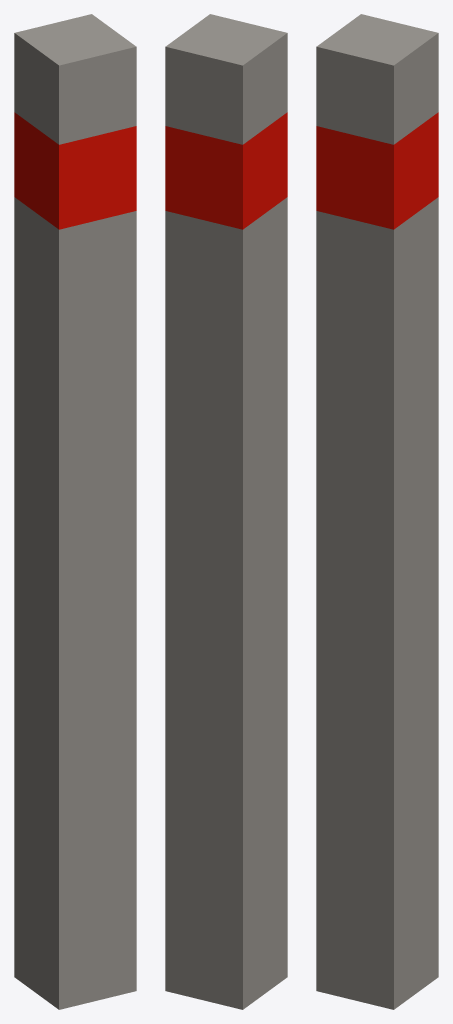
File: pilaar.glb
3 views of the same model, side by side, from view 1: azimuth 30°, elevation 25°; view 2: azimuth 150°, elevation 25°; view 3: azimuth 330°, elevation 25° (orthographic).
Visible parts, largest first — view 1: Pilaar; view 2: Pilaar; view 3: Pilaar.
Part boxes in pixels (x1,y1,x2,y2): Pilaar: [14, 14, 136, 1009]; Pilaar: [165, 14, 287, 1009]; Pilaar: [316, 14, 438, 1009].
Size of the model in its own units: 0.4431 by 5.17 by 0.4431.
